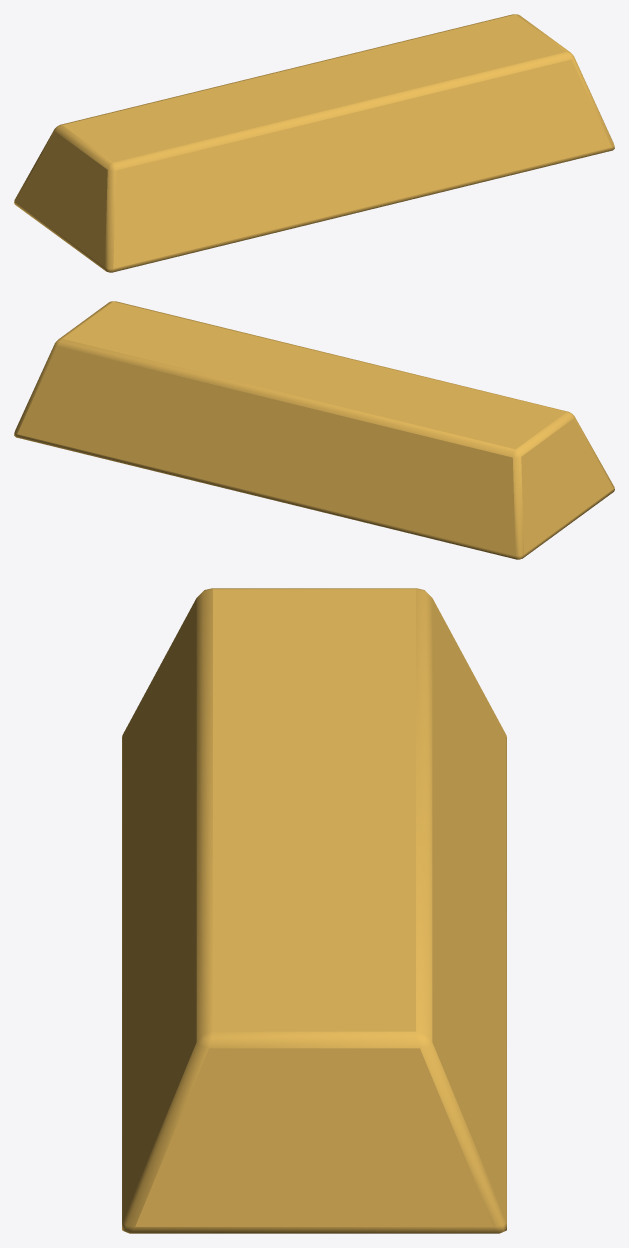
The model's file is Gold.fbx.
The picture shows the model from 3 angles, top to bottom: view 1: azimuth 30°, elevation 25°; view 2: azimuth 150°, elevation 25°; view 3: azimuth 270°, elevation 25°; orthographic projection. The views are drawn at different scales.
Parts seen in each view (by area): view 1: Goldbarren; view 2: Goldbarren; view 3: Goldbarren.
Boxes of the visible parts, x1,y1,x2,y2 form: Goldbarren: [14, 14, 614, 272]; Goldbarren: [14, 301, 614, 559]; Goldbarren: [122, 588, 506, 1233].
Size of the model in its own units: 136 by 22.81 by 44.56.
